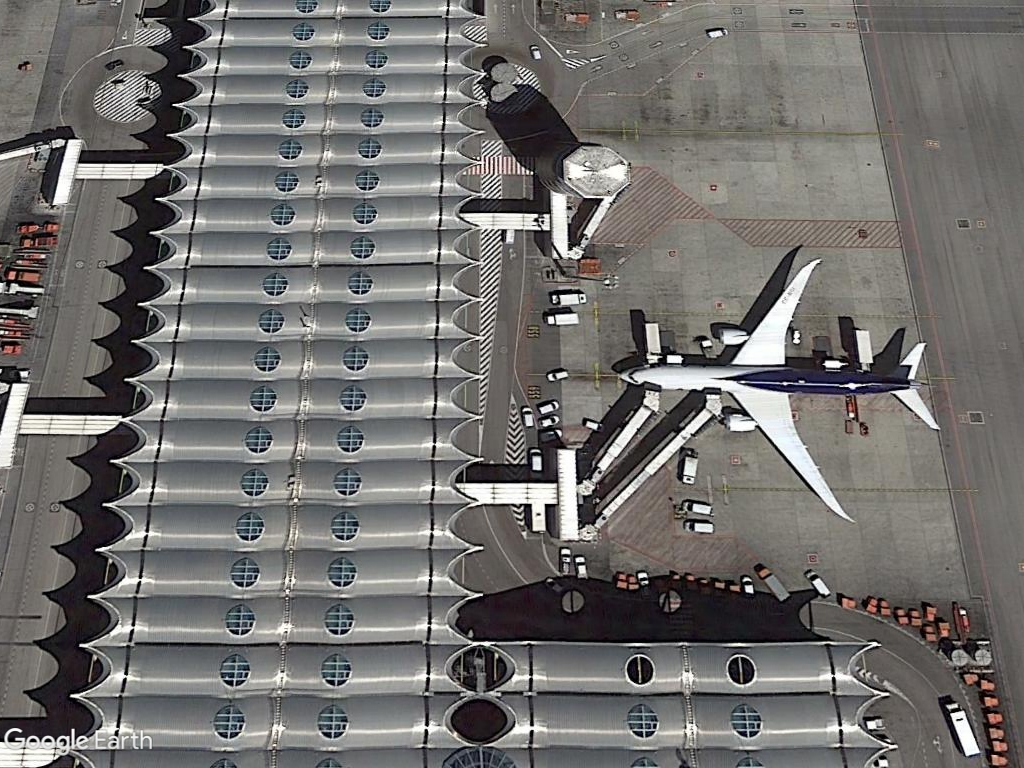airliner: (613, 257, 948, 532)
truck: (936, 698, 982, 760), (753, 563, 792, 603), (676, 452, 699, 487), (548, 290, 591, 307), (544, 310, 583, 328)
